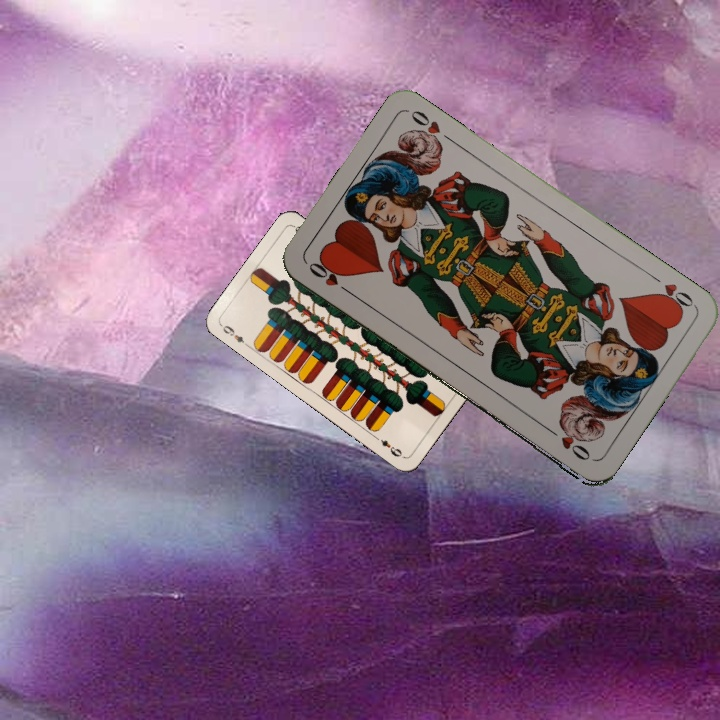E9: (217, 320, 252, 349)
HO: (647, 270, 699, 316), (304, 258, 355, 298)
